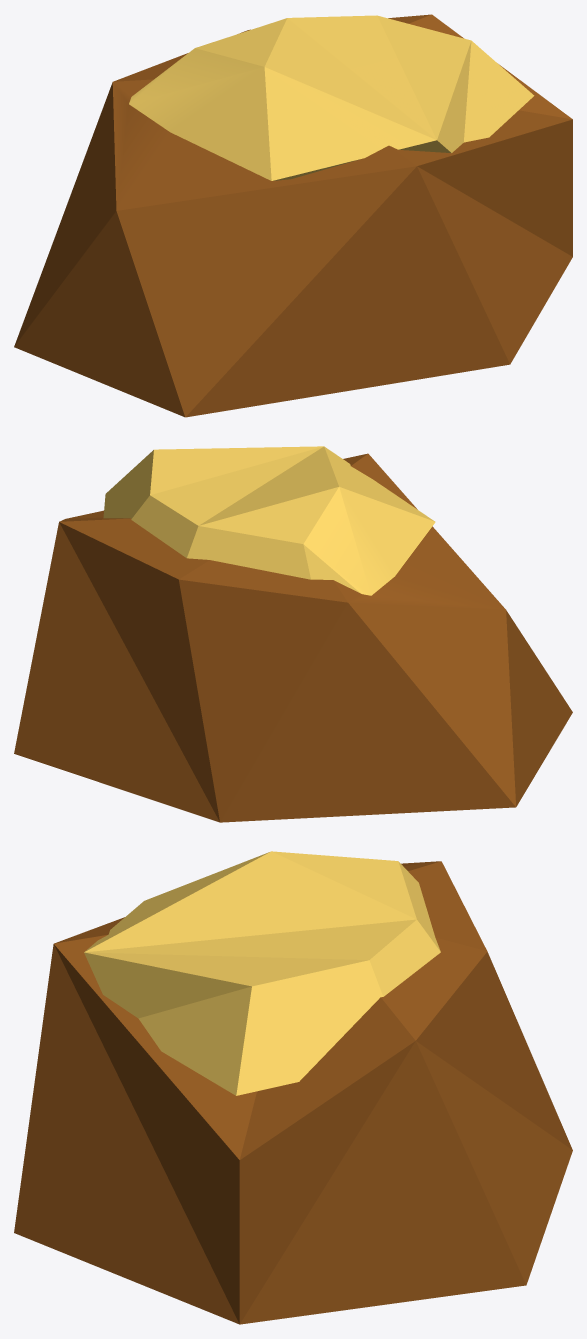
Rendered from Rock_Medium_Dirt_Sand_01.fbx.
The picture shows the model from 3 angles, top to bottom: view 1: azimuth 30°, elevation 25°; view 2: azimuth 150°, elevation 25°; view 3: azimuth 270°, elevation 25°; orthographic projection. The views are drawn at different scales.
Visible parts, largest first — view 1: Rock_Medium_Dirt_Sand_01; view 2: Rock_Medium_Dirt_Sand_01; view 3: Rock_Medium_Dirt_Sand_01.
Boxes of the visible parts, box(x1,y1,x2,y2) form: Rock_Medium_Dirt_Sand_01: box(14, 14, 572, 417); Rock_Medium_Dirt_Sand_01: box(14, 446, 572, 822); Rock_Medium_Dirt_Sand_01: box(14, 851, 572, 1324).
Size of the model in its own units: 1881 by 1090 by 1491.
